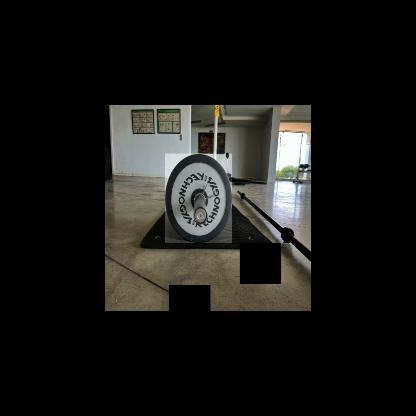barbell: (165, 154, 232, 243)
